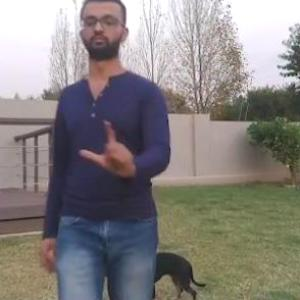land_hand: (80, 114, 133, 180)
